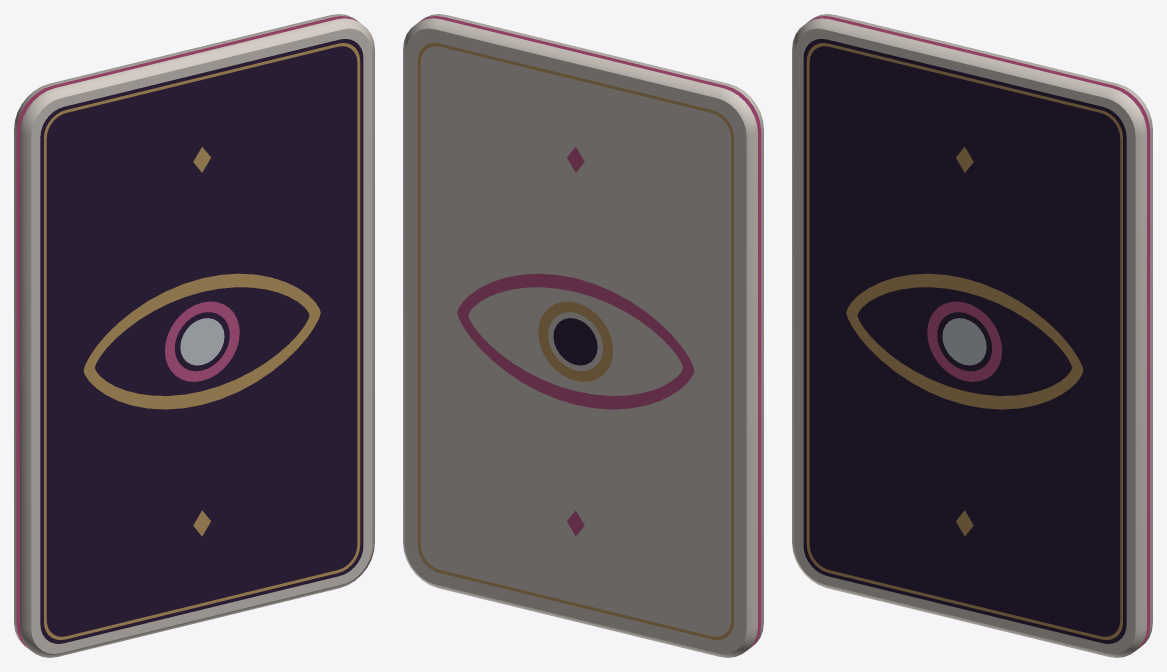
The model's file is item-card.glb.
3 renders of one model, left to right at view 1: azimuth 30°, elevation 25°; view 2: azimuth 150°, elevation 25°; view 3: azimuth 330°, elevation 25°, orthographic.
Visible parts, largest first — view 1: item_card; view 2: item_card; view 3: item_card.
Part boxes in pixels (box(x1,y1,x2,y2)): item_card: box(14, 14, 374, 657); item_card: box(403, 14, 763, 657); item_card: box(792, 14, 1152, 657).
Bounding box in the file's own units: 0.7805 × 1.2 × 0.061.
